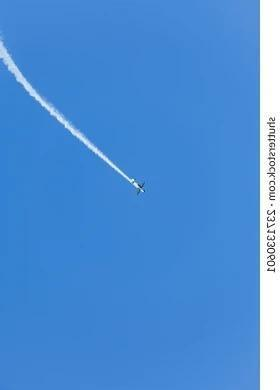Plane: (10, 94, 161, 202)
